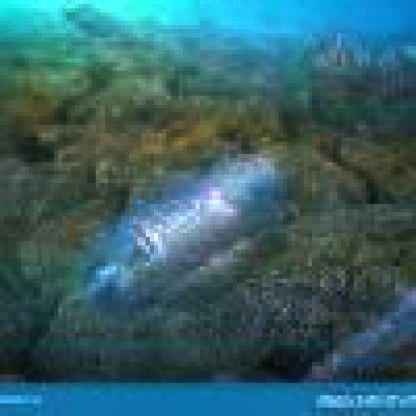pbottle: (63, 146, 296, 312)
